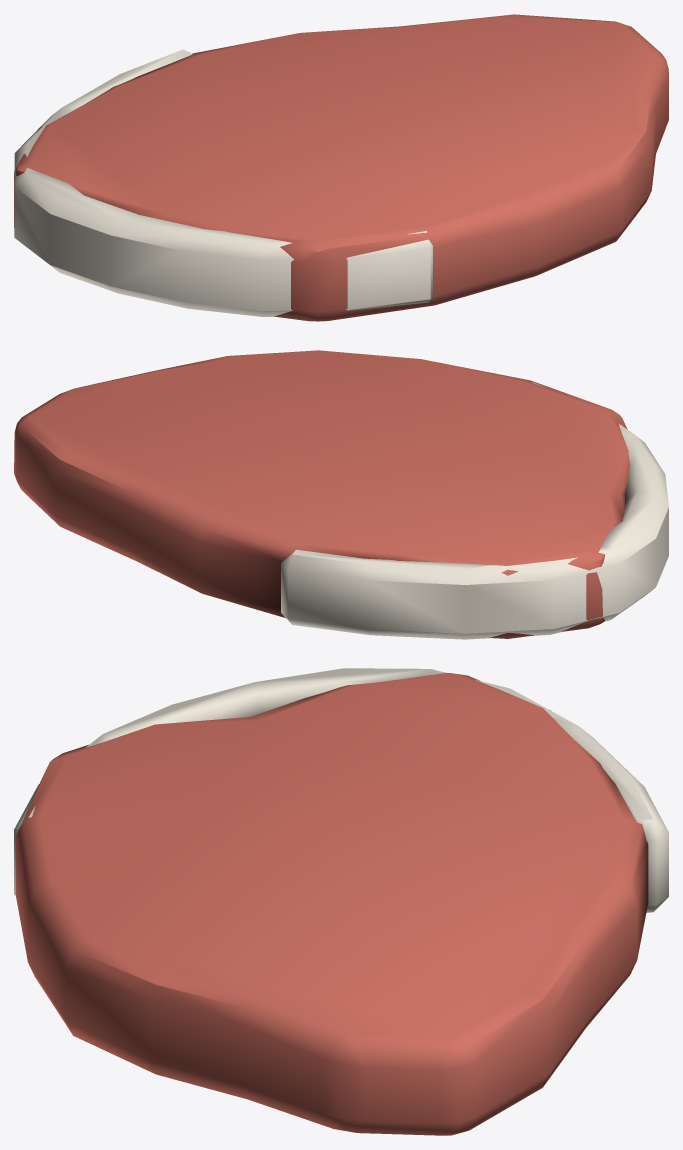
File: nd_steak.glb
The picture shows the model from 3 angles, top to bottom: view 1: azimuth 30°, elevation 25°; view 2: azimuth 150°, elevation 25°; view 3: azimuth 270°, elevation 25°; orthographic projection. The views are drawn at different scales.
Parts seen in each view (by area): view 1: PART; view 2: PART; view 3: PART.
Part boxes in pixels (x1,y1,x2,y2): PART: (14,14,668,321); PART: (14,350,668,639); PART: (14,668,668,1135).
Bounding box in the file's own units: 0.2312 × 0.029 × 0.1661.
